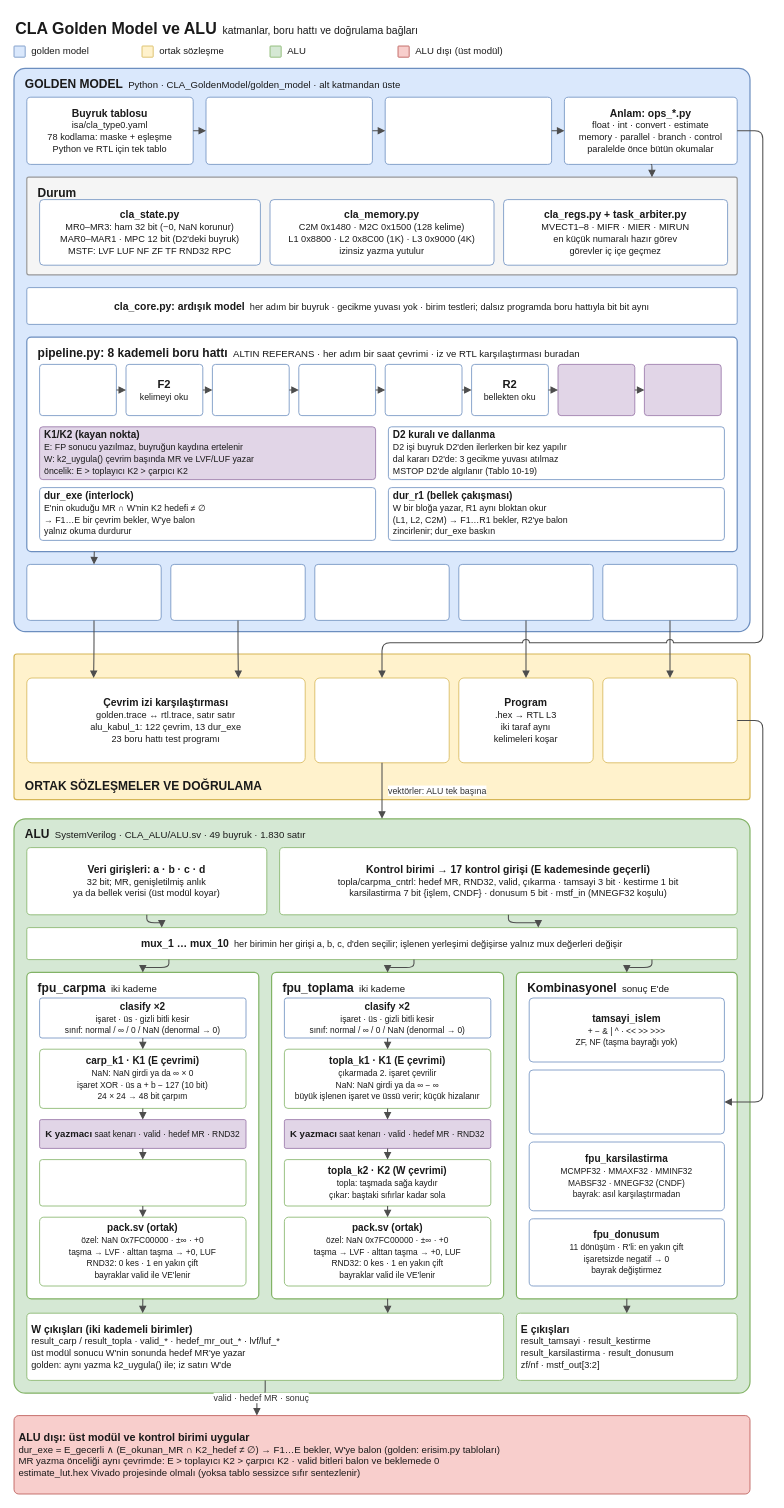
Image size: 784x1508. Some labels were removed from this diagram. Here are the shapes that lost their labels. From the top down, the centre of each, then its label:
[288,130]: Ön yüz assembler.py: iki geçiş decoder.py: tam 1 eşleşme disassembler.py
[468,130]: Dağıtıcı dagitici.py buyruk → ops_* fonksiyonu bağlanmamış kod → hata
[77,390]: F1 getirme adresi
[250,390]: D1 çöz
[337,390]: D2 MPC · adres MAR++ · dal
[423,390]: R1 okuma adresi
[596,390]: E yürüt = K1
[682,390]: W belleğe yaz = K2
[93,592]: trace.py çevrim başına bir satır E buyruğu, MR, MSTF, yazma
[237,592]: compare_trace.py ilk ayrışmayı bildirir 0 aynı · 1 fark · 2 yapılamadı
[381,592]: lint.py gecikme yuvası · yaz-oku MAR gölge gecikmesi
[525,592]: casm2hex.py program → .hex LSW alt adreste
[669,592]: lut_uret.py kestirim tablosu 768 × 8 bit
[381,720]: ALU vektör testi beklenen = ops_* 289.648 vektör 0 fark
[669,720]: Kestirim tablosu estimate_lut.hex Python == RTL
[626,1101]: fpu_kestirme 1/x, 1/√x · estimate_lut.hex 0 → ∞ + LVF · ∞ → 0
[142,1182]: carp_k2 · K2 (W çevrimi) en üst bit 1 ise sağa kaydır, üs + 1 24 bit + G, R, S
